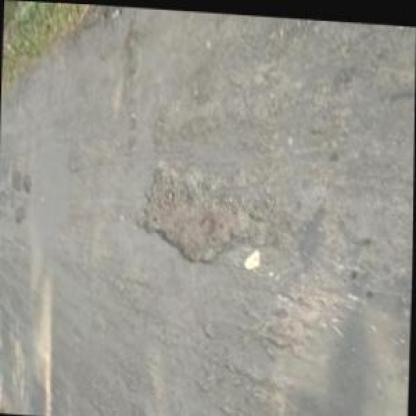pothole: (136, 157, 262, 266), (13, 202, 29, 222), (11, 168, 22, 190), (23, 172, 32, 193)
